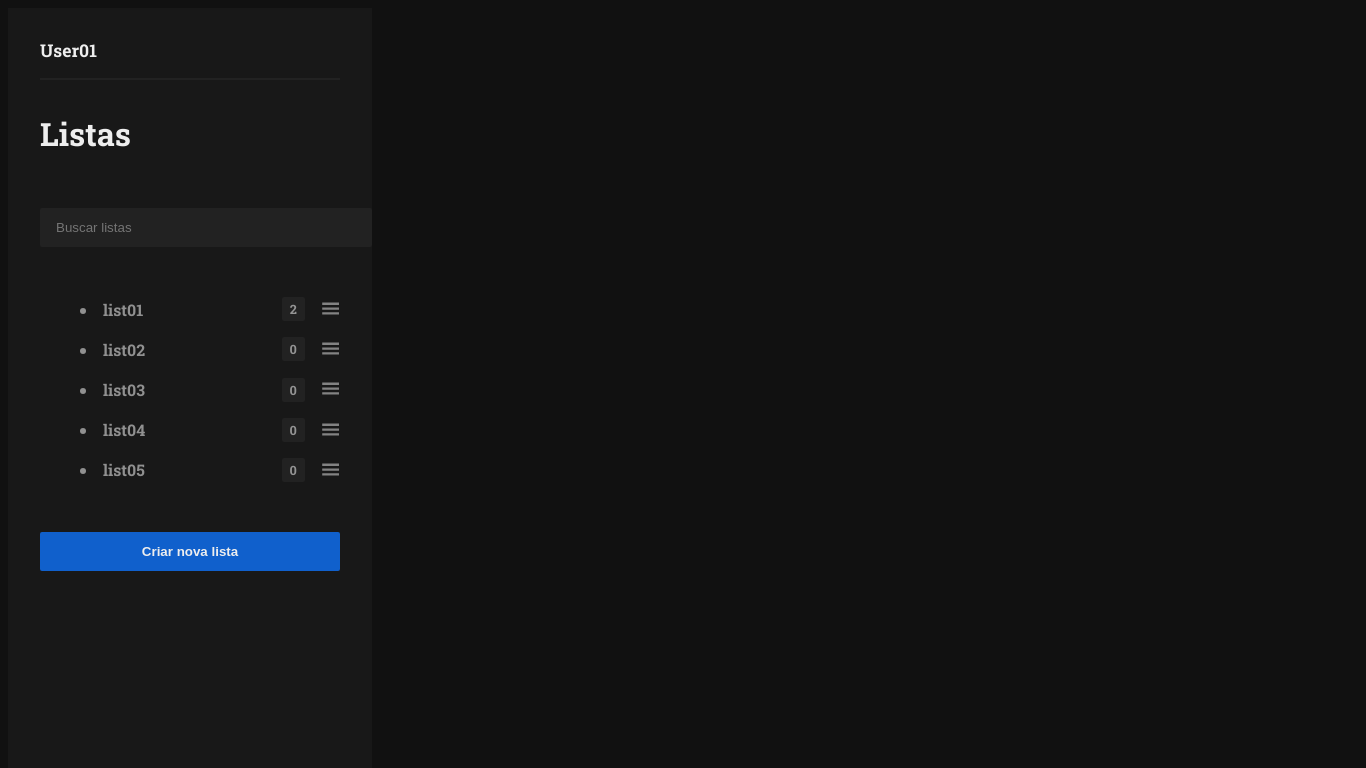
Test: Home page › Sidebar › Set a list as active
Click the element showing "list01 2": click(123, 309) left=80, top=295, right=340, bottom=323
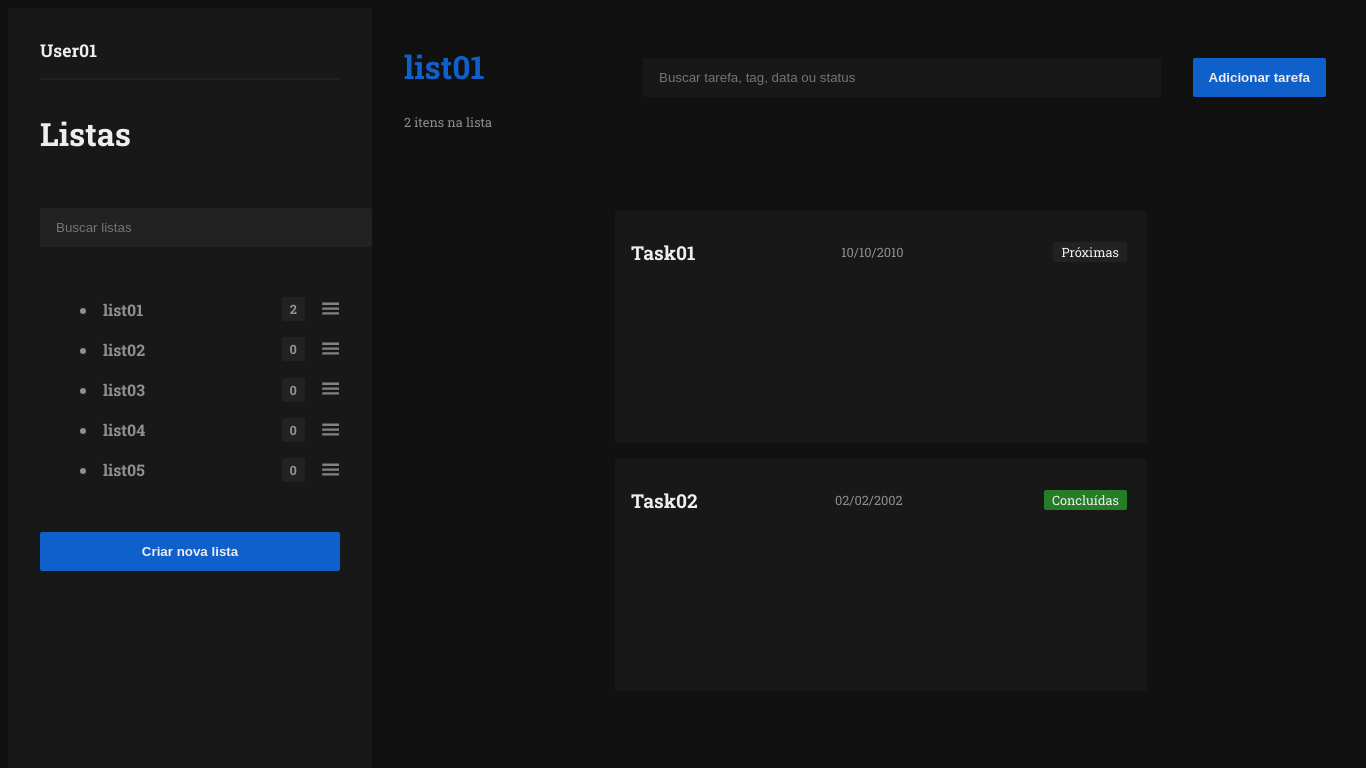
Now the heading with class "title" reads "list01", box left=404, top=45, right=492, bottom=88
Click the button with test id "list-menu-0": click(331, 311) left=321, top=299, right=340, bottom=323
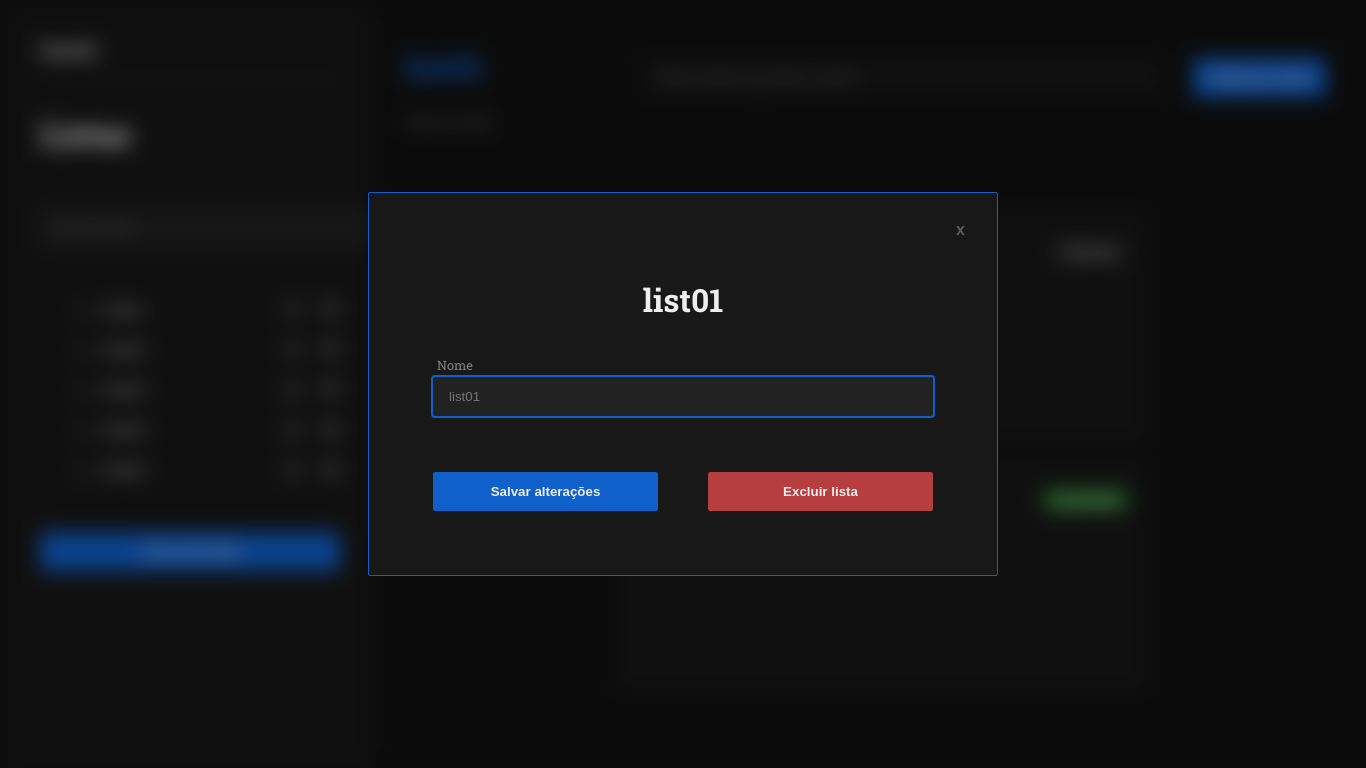
Now the heading with class "title" reads "list01", box left=643, top=278, right=724, bottom=321
